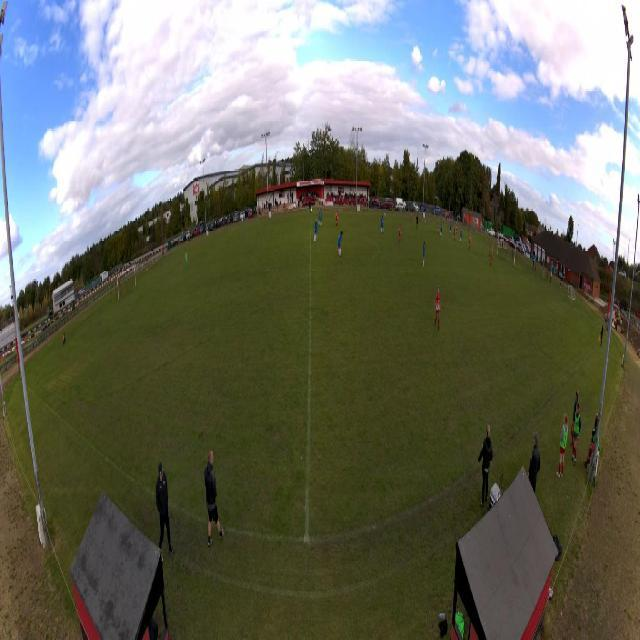player: (434, 285, 441, 332), (337, 230, 343, 258), (422, 239, 426, 269), (314, 217, 318, 242), (398, 224, 402, 246), (335, 209, 339, 229), (381, 215, 385, 235), (489, 251, 493, 267), (185, 249, 188, 270), (318, 206, 321, 226), (320, 208, 323, 227), (468, 233, 471, 251), (416, 214, 419, 231), (440, 222, 443, 239), (436, 218, 439, 235), (383, 204, 386, 218), (492, 239, 494, 256), (454, 226, 456, 243), (460, 228, 462, 244), (456, 221, 458, 237), (450, 221, 452, 236), (410, 209, 412, 223), (424, 211, 426, 225), (447, 217, 449, 231)
